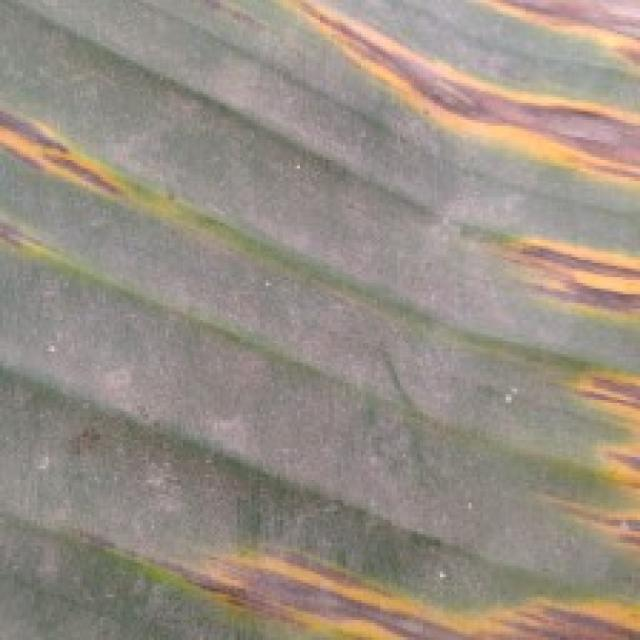Early_leaf_spot: (214, 0, 640, 203), (178, 527, 640, 640), (514, 342, 640, 550), (451, 196, 640, 334), (0, 104, 164, 220), (0, 215, 81, 292)
